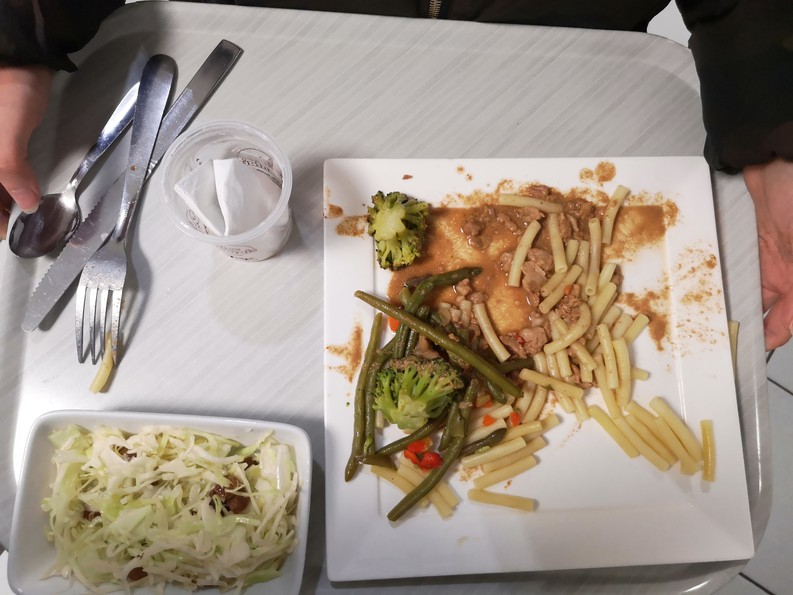orga: (530, 210, 689, 478), (45, 432, 299, 591), (464, 314, 527, 519), (360, 268, 502, 348), (349, 184, 453, 274), (372, 350, 460, 440)
trash: (149, 121, 307, 270)
